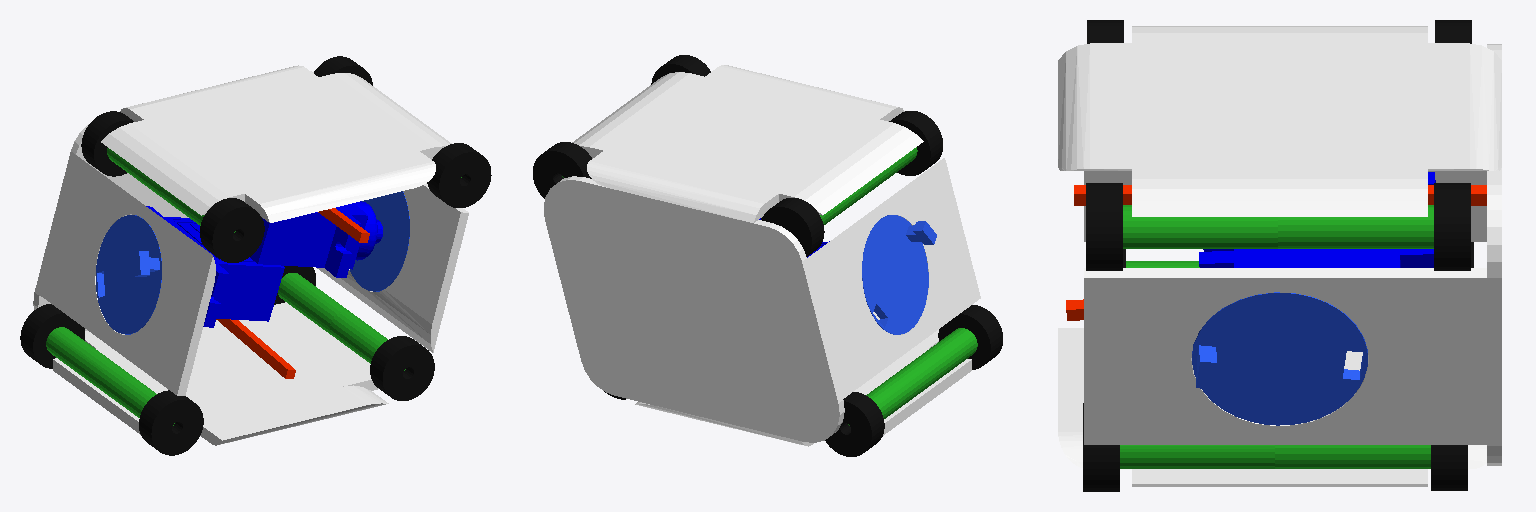
--- What the picture shows (computed from the rendered views, not written in the file) ---
The picture shows the robot from 3 angles, left to right: view 1: azimuth 30°, elevation 25°; view 2: azimuth 150°, elevation 25°; view 3: azimuth 270°, elevation 25°; orthographic projection.
Model iota with 28 links and 27 joints (11 continuous, 16 fixed), rooted at base_link, posed every joint at zero.
Visible links, largest first — view 1: base_link, top_panel, back_panel, front_panel, back_dock, front_servo, back_servo, front_dock, db_l_wheel, uf_l_wheel, ub_l_wheel, df_l_wheel (+11 smaller); view 2: r_panel, base_link, back_panel, back_dock, top_panel, ub_r_wheel, ub_l_motor, df_r_wheel, ub_l_wheel, db_r_wheel, db_l_wheel, ub_r_motor (+2 smaller); view 3: base_link, front_panel, front_dock, top_panel, df_l_motor, df_r_motor, r_panel, front_servo, uf_r_motor, uf_l_motor, df_l_wheel, df_r_wheel (+6 smaller).
Boxes of the visible links, x1,y1,x2,y2 form: base_link: [101, 65, 451, 222]; top_panel: [53, 302, 388, 445]; back_panel: [40, 155, 215, 395]; front_panel: [317, 183, 468, 352]; back_dock: [96, 215, 161, 334]; front_servo: [250, 201, 382, 277]; back_servo: [146, 206, 284, 327]; front_dock: [350, 191, 409, 291]; db_l_wheel: [200, 198, 264, 262]; uf_l_wheel: [370, 336, 434, 400]; ub_l_wheel: [139, 390, 203, 455]; df_l_wheel: [427, 143, 491, 207]; r_panel: [544, 176, 844, 442]; base_link: [572, 65, 923, 222]; back_panel: [807, 158, 980, 398]; back_dock: [862, 215, 936, 334]; top_panel: [635, 312, 971, 446]; ub_r_wheel: [825, 392, 884, 456]; ub_l_motor: [904, 328, 977, 391]; df_r_wheel: [533, 142, 591, 198]; ub_l_wheel: [938, 305, 1002, 369]; db_r_wheel: [761, 198, 824, 256]; db_l_wheel: [889, 111, 942, 175]; ub_r_motor: [848, 367, 924, 425]; base_link: [1058, 26, 1501, 216]; front_panel: [1084, 268, 1486, 444]; front_dock: [1192, 292, 1367, 425]; top_panel: [1058, 328, 1486, 486]; df_l_motor: [1123, 205, 1277, 248]; df_r_motor: [1278, 205, 1433, 248]; r_panel: [1487, 44, 1501, 465]; front_servo: [1199, 249, 1433, 267]; uf_r_motor: [1275, 445, 1430, 468]; uf_l_motor: [1120, 445, 1274, 468]; df_l_wheel: [1086, 183, 1122, 270]; df_r_wheel: [1434, 183, 1470, 270].
Bounding box of the posed robot: 0.0777 × 0.06 × 0.051 m (x, y, z).
Meshes: 28 distinct files referenced, 27 mesh visuals loaded (27 binary STL); not drawn: 1 (reference not matched to a file when rendering).

URDF robot description (iota):
<?xml version="1.0" encoding="utf-8"?>
<!-- This URDF was automatically created by SolidWorks to URDF Exporter! Originally created by Stephen Brawner ([email redacted]) 
     Commit Version: 1.6.0-1-g15f4949  Build Version: 1.6.7594.29634
     For more information, please see http://wiki.ros.org/sw_urdf_exporter -->
<robot
  name="iota">
  <material name="White">
	<color
          rgba="1.0 1.0 1.0 0.32" />
  </material>
  <material name="Green">
	<color
          rgba="0.18 0.72 0.18 1.0" />
  </material>
  <material name="Black">
	<color
          rgba="0.1 0.1 0.1 1.0" />
  </material>
  <material name="Red">
	<color rgba="1.0 0.2 0.0 0.7" />
  </material>
  <material name="LBlue">
	<color rgba="0.2 0.4 1.0 1.0" />
  </material>
  <material name="DBlue">
  <color rgba="0.0 0.0 1.0 1.0" />
  </material>
  <link
    name="base_link">
    <inertial>
      <origin
        xyz="0.026406 -0.048678 0.080107"
        rpy="0 0 0" />
      <mass
        value="0.0077405" />
      <inertia
        ixx="1.8647E-06"
        ixy="-1.4495E-12"
        ixz="-9.4749E-10"
        iyy="1.7838E-06"
        iyz="3.7523E-12"
        izz="3.6406E-06" />
    </inertial>
    <visual>
      <origin
        xyz="0 0 0"
        rpy="0 0 0" />
      <geometry>
        <mesh
          filename="meshes/base_link.STL" />
      </geometry>
      <material name="White"/>
    </visual>
    <collision>
      <origin
        xyz="0 0 0"
        rpy="0 0 0" />
      <geometry>
        <mesh
          filename="meshes/base_link.STL" />
      </geometry>
    </collision>
  </link>
  <link
    name="db_r_motor">
    <inertial>
      <origin
        xyz="-1.7347E-18 0 0.010687"
        rpy="0 0 0" />
      <mass
        value="0.00064583" />
      <inertia
        ixx="2.6152E-08"
        ixy="0"
        ixz="2.2331E-24"
        iyy="2.6152E-08"
        iyz="3.7564E-25"
        izz="2.8672E-09" />
    </inertial>
    <visual>
      <origin
        xyz="0 0 0"
        rpy="0 0 0" />
      <geometry>
        <mesh
          filename="meshes/db_r_motor.STL" />
      </geometry>
      <material
        name="Green"/>
    </visual>
    <collision>
      <origin
        xyz="0 0 0"
        rpy="0 0 0" />
      <geometry>
        <mesh
          filename="meshes/db_r_motor.STL" />
      </geometry>
    </collision>
  </link>
  <joint
    name="db_r_motor"
    type="fixed">
    <origin
      xyz="0.00169289678711508 -0.0487304240846036 0.0758985670725845"
      rpy="-1.5707963267949 -0.106028806705873 0" />
    <parent
      link="base_link" />
    <child
      link="db_r_motor" />
    <axis
      xyz="0 0 0" />
  </joint>
  <link
    name="db_r_wheel">
    <inertial>
      <origin
        xyz="2.1684E-18 1.3878E-17 -0.0025"
        rpy="0 0 0" />
      <mass
        value="0.00057667" />
      <inertia
        ixx="6.635E-09"
        ixy="-1.8333E-43"
        ixz="-1.5673E-25"
        iyy="6.635E-09"
        iyz="-1.8363E-41"
        izz="1.0867E-08" />
    </inertial>
    <visual>
      <origin
        xyz="0 0 0"
        rpy="0 0 0" />
      <geometry>
        <mesh
          filename="meshes/db_r_wheel.STL" />
      </geometry>
      <material name="Black"/>
    </visual>
    <collision>
      <origin
        xyz="0 0 0"
        rpy="0 0 0" />
      <geometry>
        <mesh
          filename="meshes/db_r_wheel.STL" />
      </geometry>
    </collision>
  </link>
  <joint
    name="db_r_wheel"
    type="continuous">
    <origin
      xyz="0 0 0.021"
      rpy="3.14159265358979 0 0.106028806705873" />
    <parent
      link="db_r_motor" />
    <child
      link="db_r_wheel" />
    <axis
      xyz="0 0 1" />
    <limit
      lower="0"
      upper="0"
      effort="0"
      velocity="0" />
  </joint>
  <link
    name="db_l_motor">
    <inertial>
      <origin
        xyz="-2.1684E-19 1.3878E-17 0.010687"
        rpy="0 0 0" />
      <mass
        value="0.00064583" />
      <inertia
        ixx="2.6152E-08"
        ixy="-1.085E-45"
        ixz="2.5572E-26"
        iyy="2.6152E-08"
        iyz="-4.3537E-41"
        izz="2.8672E-09" />
    </inertial>
    <visual>
      <origin
        xyz="0 0 0"
        rpy="0 0 0" />
      <geometry>
        <mesh
          filename="meshes/db_l_motor.STL" />
      </geometry>
      <material name="Green" />
    </visual>
    <collision>
      <origin
        xyz="0 0 0"
        rpy="0 0 0" />
      <geometry>
        <mesh
          filename="meshes/db_l_motor.STL" />
      </geometry>
    </collision>
  </link>
  <joint
    name="db_l_motor"
    type="fixed">
    <origin
      xyz="0.00169289678711508 -0.0487304240846036 0.0758985670725845"
      rpy="1.5707963267949 0 0" />
    <parent
      link="base_link" />
    <child
      link="db_l_motor" />
    <axis
      xyz="0 0 0" />
  </joint>
  <link
    name="db_l_wheel">
    <inertial>
      <origin
        xyz="2.1684E-18 0 0.0025"
        rpy="0 0 0" />
      <mass
        value="0.00057667" />
      <inertia
        ixx="6.635E-09"
        ixy="-1.8333E-43"
        ixz="-1.5735E-41"
        iyy="6.635E-09"
        iyz="-1.8363E-41"
        izz="1.0867E-08" />
    </inertial>
    <visual>
      <origin
        xyz="0 0 0"
        rpy="0 0 0" />
      <geometry>
        <mesh
          filename="meshes/db_l_wheel.STL" />
      </geometry>
      <material name="Black" />
    </visual>
    <collision>
      <origin
        xyz="0 0 0"
        rpy="0 0 0" />
      <geometry>
        <mesh
          filename="meshes/db_l_wheel.STL" />
      </geometry>
    </collision>
  </link>
  <joint
    name="db_l_wheel"
    type="continuous">
    <origin
      xyz="0 0 0.021"
      rpy="0 0 0" />
    <parent
      link="db_l_motor" />
    <child
      link="db_l_wheel" />
    <axis
      xyz="0 0 1" />
    <limit
      lower="0"
      upper="0"
      effort="0"
      velocity="0" />
  </joint>
  <link
    name="df_l_motor">
    <inertial>
      <origin
        xyz="0 0 0.010687"
        rpy="0 0 0" />
      <mass
        value="0.00064583" />
      <inertia
        ixx="2.6152E-08"
        ixy="0"
        ixz="-2.3102E-25"
        iyy="2.6152E-08"
        iyz="1.0209E-25"
        izz="2.8672E-09" />
    </inertial>
    <visual>
      <origin
        xyz="0 0 0"
        rpy="0 0 0" />
      <geometry>
        <mesh
          filename="meshes/df_l_motor.STL" />
      </geometry>
      <material name="Green" />
    </visual>
    <collision>
      <origin
        xyz="0 0 0"
        rpy="0 0 0" />
      <geometry>
        <mesh
          filename="meshes/df_l_motor.STL" />
      </geometry>
    </collision>
  </link>
  <joint
    name="df_l_motor"
    type="fixed">
    <origin
      xyz="0.0535884018392908 -0.0488891935290498 0.0758985670725845"
      rpy="1.5707963267949 0.772628626281801 0" />
    <parent
      link="base_link" />
    <child
      link="df_l_motor" />
    <axis
      xyz="0 0 0" />
  </joint>
  <link
    name="df_l_wheel">
    <inertial>
      <origin
        xyz="0 -1.3878E-17 0.0025"
        rpy="0 0 0" />
      <mass
        value="0.00057667" />
      <inertia
        ixx="6.635E-09"
        ixy="-2.068E-25"
        ixz="1.1168E-25"
        iyy="6.635E-09"
        iyz="3.1767E-27"
        izz="1.0867E-08" />
    </inertial>
    <visual>
      <origin
        xyz="0 0 0"
        rpy="0 0 0" />
      <geometry>
        <mesh
          filename="meshes/df_l_wheel.STL" />
      </geometry>
      <material name="Black" />
    </visual>
    <collision>
      <origin
        xyz="0 0 0"
        rpy="0 0 0" />
      <geometry>
        <mesh
          filename="meshes/df_l_wheel.STL" />
      </geometry>
    </collision>
  </link>
  <joint
    name="df_l_wheel"
    type="continuous">
    <origin
      xyz="0 0 0.021"
      rpy="0 0 0.88390039009553" />
    <parent
      link="df_l_motor" />
    <child
      link="df_l_wheel" />
    <axis
      xyz="0 0 1" />
    <limit
      lower="0"
      upper="0"
      effort="0"
      velocity="0" />
  </joint>
  <link
    name="df_r_motor">
    <inertial>
      <origin
        xyz="1.3878E-17 1.3878E-17 0.010687"
        rpy="0 0 0" />
      <mass
        value="0.00064583" />
      <inertia
        ixx="2.6152E-08"
        ixy="0"
        ixz="1.1887E-23"
        iyy="2.6152E-08"
        iyz="-9.1395E-25"
        izz="2.8672E-09" />
    </inertial>
    <visual>
      <origin
        xyz="0 0 0"
        rpy="0 0 0" />
      <geometry>
        <mesh
          filename="meshes/df_r_motor.STL" />
      </geometry>
      <material name="Green"/>
    </visual>
    <collision>
      <origin
        xyz="0 0 0"
        rpy="0 0 0" />
      <geometry>
        <mesh
          filename="meshes/df_r_motor.STL" />
      </geometry>
    </collision>
  </link>
  <joint
    name="df_r_motor"
    type="fixed">
    <origin
      xyz="0.0535884018392908 -0.0488891935290498 0.0758985670725845"
      rpy="-1.5707963267949 -1.46819705601191 0" />
    <parent
      link="base_link" />
    <child
      link="df_r_motor" />
    <axis
      xyz="0 0 0" />
  </joint>
  <link
    name="df_r_wheel">
    <inertial>
      <origin
        xyz="-1.3878E-17 0 -0.0025"
        rpy="0 0 0" />
      <mass
        value="0.00057667" />
      <inertia
        ixx="6.635E-09"
        ixy="-1.8333E-43"
        ixz="1.5673E-25"
        iyy="6.635E-09"
        iyz="-1.8363E-41"
        izz="1.0867E-08" />
    </inertial>
    <visual>
      <origin
        xyz="0 0 0"
        rpy="0 0 0" />
      <geometry>
        <mesh
          filename="meshes/df_r_wheel.STL" />
      </geometry>
      <material name="Black" />
    </visual>
    <collision>
      <origin
        xyz="0 0 0"
        rpy="0 0 0" />
      <geometry>
        <mesh
          filename="meshes/df_r_wheel.STL" />
      </geometry>
    </collision>
  </link>
  <joint
    name="df_r_wheel"
    type="continuous">
    <origin
      xyz="0 0 0.021"
      rpy="3.14159265358979 0 1.46819705601191" />
    <parent
      link="df_r_motor" />
    <child
      link="df_r_wheel" />
    <axis
      xyz="0 0 1" />
    <limit
      lower="0"
      upper="0"
      effort="0"
      velocity="0" />
  </joint>
  <link
    name="l_panel">
    <inertial>
      <origin
        xyz="0.036454 0.0225 0.001"
        rpy="0 0 0" />
      <mass
        value="0.0056383" />
      <inertia
        ixx="9.1857E-07"
        ixy="-2.2022E-07"
        ixz="1.3801E-26"
        iyy="1.678E-06"
        iyz="1.6869E-24"
        izz="2.5928E-06" />
    </inertial>
    <visual>
      <origin
        xyz="0 0 0"
        rpy="0 0 0" />
      <geometry>
        <mesh
          filename="meshes/l_panel.STL" />
      </geometry>
      <material name="White" />
    </visual>
    <collision>
      <origin
        xyz="0 0 0"
        rpy="0 0 0" />
      <geometry>
        <mesh
          filename="meshes/l_panel.STL" />
      </geometry>
    </collision>
  </link>
  <joint
    name="l_panel"
    type="fixed">
    <origin
      xyz="-0.015594256799817 -0.0766777315109957 0.0338985670725845"
      rpy="1.5707963267949 0 0" />
    <parent
      link="base_link" />
    <child
      link="l_panel" />
    <axis
      xyz="0 0 0" />
  </joint>
  <link
    name="lower_bracket">
    <inertial>
      <origin
        xyz="-3.4694E-18 0 0.0279"
        rpy="0 0 0" />
      <mass
        value="0.00023882" />
      <inertia
        ixx="6.2047E-08"
        ixy="0"
        ixz="2.0075E-24"
        iyy="6.2047E-08"
        iyz="3.3066E-27"
        izz="1.5922E-10" />
    </inertial>
    <visual>
      <origin
        xyz="0 0 0"
        rpy="0 0 0" />
      <geometry>
        <mesh
          filename="meshes/lower_bracket.STL" />
      </geometry>
      <material
        name="Red"/>
    </visual>
    <collision>
      <origin
        xyz="0 0 0"
        rpy="0 0 0" />
      <geometry>
        <mesh
          filename="meshes/lower_bracket.STL" />
      </geometry>
    </collision>
  </link>
  <joint
    name="lower_bracket"
    type="fixed">
    <origin
      xyz="0.045176397046141 0.0355758226897028 -0.056"
      rpy="0 0 -0.279104698918359" />
    <parent
      link="l_panel" />
    <child
      link="lower_bracket" />
    <axis
      xyz="0 0 0" />
  </joint>
  <link
    name="front_servo">
    <inertial>
      <origin
        xyz="-0.00036972 -3.524E-05 -0.0013115"
        rpy="0 0 0" />
      <mass
        value="0.006771" />
      <inertia
        ixx="4.3115E-07"
        ixy="8.8222E-11"
        ixz="-3.109E-08"
        iyy="6.7194E-07"
        iyz="1.0633E-09"
        izz="3.9197E-07" />
    </inertial>
    <visual>
      <origin
        xyz="0 0 0"
        rpy="0 0 0" />
      <geometry>
        <mesh
          filename="meshes/front_servo.STL" />
      </geometry>
      <material
        name="DBlue" />
    </visual>
    <collision>
      <origin
        xyz="0 0 0"
        rpy="0 0 0" />
      <geometry>
        <mesh
          filename="meshes/front_servo.STL" />
      </geometry>
    </collision>
  </link>
  <joint
    name="front_servo"
    type="fixed">
    <origin
      xyz="0.0034656966666195 -0.00820924646147805 0.0226525215937532"
      rpy="-1.57079632679489 1.51354276544107 1.57056578752365" />
    <parent
      link="lower_bracket" />
    <child
      link="front_servo" />
    <axis
      xyz="0 0 0" />
  </joint>
  <link
    name="front_dock">
    <inertial>
      <origin
        xyz="-0.00069261 6.9389E-18 0.00065064"
        rpy="0 0 0" />
      <mass
        value="0.00096771" />
      <inertia
        ixx="3.4644E-08"
        ixy="2.4815E-24"
        ixz="1.4408E-09"
        iyy="3.5747E-08"
        iyz="3.1935E-24"
        izz="6.8523E-08" />
    </inertial>
    <visual>
      <origin
        xyz="0 0 0"
        rpy="0 0 0" />
      <geometry>
        <mesh
          filename="meshes/front_dock.STL" />
      </geometry>
      <material
        name="LBlue" />
    </visual>
    <collision>
      <origin
        xyz="0 0 0"
        rpy="0 0 0" />
      <geometry>
        <mesh
          filename="meshes/front_dock.STL" />
      </geometry>
    </collision>
  </link>
  <joint
    name="front_dock"
    type="continuous">
    <origin
      xyz="-0.00535000000000001 0 -0.0190593320349418"
      rpy="3.14159265358979 0 0.173000373416657" />
    <parent
      link="front_servo" />
    <child
      link="front_dock" />
    <axis
      xyz="0 0 1" />
    <limit
      lower="0"
      upper="0"
      effort="0"
      velocity="0" />
  </joint>
  <link
    name="front_panel">
    <inertial>
      <origin
        xyz="0.0010548 0.00067286 0.0005827"
        rpy="0 0 0" />
      <mass
        value="0.0023099" />
      <inertia
        ixx="1.8436E-07"
        ixy="4.9212E-10"
        ixz="6.42E-11"
        iyy="7.7688E-07"
        iyz="-1.2689E-08"
        izz="9.5797E-07" />
    </inertial>
    <visual>
      <origin
        xyz="0 0 0"
        rpy="0 0 0" />
      <geometry>
        <mesh
          filename="meshes/front_panel.STL" />
      </geometry>
      <material
        name="White" />
    </visual>
    <collision>
      <origin
        xyz="0 0 0"
        rpy="0 0 0" />
      <geometry>
        <mesh
          filename="meshes/front_panel.STL" />
      </geometry>
    </collision>
  </link>
  <joint
    name="front_panel"
    type="fixed">
    <origin
      xyz="0.0644825369743734 0.0211802219227158 -0.0280062445817686"
      rpy="-1.36380991527172 1.57079631189374 -1.56665611972111" />
    <parent
      link="l_panel" />
    <child
      link="front_panel" />
    <axis
      xyz="0 0 0" />
  </joint>
  <link
    name="top_panel">
    <inertial>
      <origin
        xyz="-0.001035 0.0012757 5.4587E-08"
        rpy="0 0 0" />
      <mass
        value="0.0079632" />
      <inertia
        ixx="1.8945E-06"
        ixy="-2.378E-09"
        ixz="-1.2426E-12"
        iyy="3.842E-06"
        iyz="-6.5822E-12"
        izz="1.9557E-06" />
    </inertial>
    <visual>
      <origin
        xyz="0 0 0"
        rpy="0 0 0" />
      <geometry>
        <mesh
          filename="meshes/top_panel.STL" />
      </geometry>
      <material
        name="White" />
    </visual>
    <collision>
      <origin
        xyz="0 0 0"
        rpy="0 0 0" />
      <geometry>
        <mesh
          filename="meshes/top_panel.STL" />
      </geometry>
    </collision>
  </link>
  <joint
    name="top_panel"
    type="fixed">
    <origin
      xyz="0.0312989282218165 -0.0025 -0.028"
      rpy="0 0 0" />
    <parent
      link="l_panel" />
    <child
      link="top_panel" />
    <axis
      xyz="0 0 0" />
  </joint>
  <link
    name="ub_l_motor">
    <inertial>
      <origin
        xyz="-1.7347E-18 0 0.010687"
        rpy="0 0 0" />
      <mass
        value="0.00064583" />
      <inertia
        ixx="2.6152E-08"
        ixy="0"
        ixz="5.6159E-25"
        iyy="2.6152E-08"
        iyz="-1.1146E-26"
        izz="2.8672E-09" />
    </inertial>
    <visual>
      <origin
        xyz="0 0 0"
        rpy="0 0 0" />
      <geometry>
        <mesh
          filename="meshes/ub_l_motor.STL" />
      </geometry>
      <material
        name="Green" />
    </visual>
    <collision>
      <origin
        xyz="0 0 0"
        rpy="0 0 0" />
      <geometry>
        <mesh
          filename="meshes/ub_l_motor.STL" />
      </geometry>
    </collision>
  </link>
  <joint
    name="ub_l_motor"
    type="fixed">
    <origin
      xyz="-0.0278596823124971 0.00550000000000001 -0.000160189778555461"
      rpy="0 0 0.0567673670058895" />
    <parent
      link="top_panel" />
    <child
      link="ub_l_motor" />
    <axis
      xyz="0 0 0" />
  </joint>
  <link
    name="ub_l_wheel">
    <inertial>
      <origin
        xyz="1.7347E-18 -6.9389E-18 0.0025"
        rpy="0 0 0" />
      <mass
        value="0.00057667" />
      <inertia
        ixx="6.635E-09"
        ixy="-1.8333E-43"
        ixz="-1.5136E-41"
        iyy="6.635E-09"
        iyz="-1.8363E-41"
        izz="1.0867E-08" />
    </inertial>
    <visual>
      <origin
        xyz="0 0 0"
        rpy="0 0 0" />
      <geometry>
        <mesh
          filename="meshes/ub_l_wheel.STL" />
      </geometry>
      <material
        name="Black"/>
    </visual>
    <collision>
      <origin
        xyz="0 0 0"
        rpy="0 0 0" />
      <geometry>
        <mesh
          filename="meshes/ub_l_wheel.STL" />
      </geometry>
    </collision>
  </link>
  <joint
    name="ub_l_wheel"
    type="continuous">
    <origin
      xyz="0 0 0.021"
      rpy="0 0 -0.0567673670058895" />
    <parent
      link="ub_l_motor" />
    <child
      link="ub_l_wheel" />
    <axis
      xyz="0 0 1" />
    <limit
      lower="0"
      upper="0"
      effort="0"
      velocity="0" />
  </joint>
  <link
    name="ub_r_motor">
    <inertial>
      <origin
        xyz="6.9389E-18 -1.7347E-18 0.010687"
        rpy="0 0 0" />
      <mass
        value="0.00064583" />
      <inertia
        ixx="2.6152E-08"
        ixy="5.3989E-39"
        ixz="-3.4061E-23"
        iyy="2.6152E-08"
        iyz="-3.0744E-23"
        izz="2.8672E-09" />
    </inertial>
    <visual>
      <origin
        xyz="0 0 0"
        rpy="0 0 0" />
      <geometry>
        <mesh
          filename="meshes/ub_r_motor.STL" />
      </geometry>
      <material
        name="Green" />
    </visual>
    <collision>
      <origin
        xyz="0 0 0"
        rpy="0 0 0" />
      <geometry>
        <mesh
          filename="meshes/ub_r_motor.STL" />
      </geometry>
    </collision>
  </link>
  <joint
    name="ub_r_motor"
    type="continuous">
    <origin
      xyz="-0.0278596823124971 0.00550000000000001 -0.000160189778555461"
      rpy="-3.14159265358979 0 2.25067256820044" />
    <parent
      link="top_panel" />
    <child
      link="ub_r_motor" />
    <axis
      xyz="0 0 1" />
  </joint>
  <link
    name="ub_r_wheel">
    <inertial>
      <origin
        xyz="1.7347E-18 0 -0.0025"
        rpy="0 0 0" />
      <mass
        value="0.00057667" />
      <inertia
        ixx="6.635E-09"
        ixy="-1.551E-25"
        ixz="4.1736E-26"
        iyy="6.635E-09"
        iyz="5.7039E-26"
        izz="1.0867E-08" />
    </inertial>
    <visual>
      <origin
        xyz="0 0 0"
        rpy="0 0 0" />
      <geometry>
        <mesh
          filename="meshes/ub_r_wheel.STL" />
      </geometry>
      <material
        name="Black"/>
    </visual>
    <collision>
      <origin
        xyz="0 0 0"
        rpy="0 0 0" />
      <geometry>
        <mesh
          filename="meshes/ub_r_wheel.STL" />
      </geometry>
    </collision>
  </link>
  <joint
    name="ub_r_wheel"
    type="continuous">
    <origin
      xyz="0 0 0.021"
      rpy="-3.14159265358979 0 2.33553651872795" />
    <parent
      link="ub_r_motor" />
    <child
      link="ub_r_wheel" />
    <axis
      xyz="0 0 1" />
    <limit
      lower="0"
      upper="0"
      effort="0"
      velocity="0" />
  </joint>
  <link
    name="uf_l_motor">
    <inertial>
      <origin
        xyz="0 0 0.010687"
        rpy="0 0 0" />
      <mass
        value="0.00064583" />
      <inertia
        ixx="2.6152E-08"
        ixy="0"
        ixz="-6.1854E-25"
        iyy="2.6152E-08"
        iyz="-8.9939E-26"
        izz="2.8672E-09" />
    </inertial>
    <visual>
      <origin
        xyz="0 0 0"
        rpy="0 0 0" />
      <geometry>
        <mesh
          filename="meshes/uf_l_motor.STL" />
      </geometry>
      <material
        name="Green" />
    </visual>
    <collision>
      <origin
        xyz="0 0 0"
        rpy="0 0 0" />
      <geometry>
        <mesh
          filename="meshes/uf_l_motor.STL" />
      </geometry>
    </collision>
  </link>
  <joint
    name="uf_l_motor"
    type="fixed">
    <origin
      xyz="0.024664170926022 0.00549999999999999 0.000627140047234562"
      rpy="0 0 0.344784457208072" />
    <parent
      link="top_panel" />
    <child
      link="uf_l_motor" />
    <axis
      xyz="0 0 0" />
  </joint>
  <link
    name="uf_l_wheel">
    <inertial>
      <origin
        xyz="-1.3878E-17 0 0.0025"
        rpy="0 0 0" />
      <mass
        value="0.00057667" />
      <inertia
        ixx="6.635E-09"
        ixy="1.034E-25"
        ixz="-1.4648E-25"
        iyy="6.635E-09"
        iyz="-1.9241E-26"
        izz="1.0867E-08" />
    </inertial>
    <visual>
      <origin
        xyz="0 0 0"
        rpy="0 0 0" />
      <geometry>
        <mesh
          filename="meshes/uf_l_wheel.STL" />
      </geometry>
      <material
        name="Black" />
    </visual>
    <collision>
      <origin
        xyz="0 0 0"
        rpy="0 0 0" />
      <geometry>
        <mesh
          filename="meshes/uf_l_wheel.STL" />
      </geometry>
    </collision>
  </link>
  <joint
    name="uf_l_wheel"
    type="continuous">
    <origin
      xyz="0 0 0.021"
      rpy="0 0 -0.420760994096352" />
    <parent
      link="uf_l_motor" />
    <child
      link="uf_l_wheel" />
    <axis
      xyz="0 0 1" />
    <limit
      lower="0"
      upper="0"
      effort="0"
      velocity="0" />
  </joint>
  <link
    name="uf_r_motor">
    <inertial>
      <origin
        xyz="-6.9389E-18 -3.4694E-18 0.010687"
        rpy="0 0 0" />
      <mass
        value="0.00064583" />
      <inertia
        ixx="2.6152E-08"
        ixy="0"
        ixz="-5.8383E-25"
        iyy="2.6152E-08"
        iyz="2.0104E-25"
        izz="2.8672E-09" />
    </inertial>
    <visual>
      <origin
        xyz="0 0 0"
        rpy="0 0 0" />
      <geometry>
        <mesh
          filename="meshes/uf_r_motor.STL" />
      </geometry>
      <material
        name="Green"/>
    </visual>
    <collision>
      <origin
        xyz="0 0 0"
        rpy="0 0 0" />
      <geometry>
        <mesh
          filename="meshes/uf_r_motor.STL" />
      </geometry>
    </collision>
  </link>
  <joint
    name="uf_r_motor"
    type="fixed">
    <origin
      xyz="0.024664170926022 0.00549999999999999 0.000627140047234562"
      rpy="3.14159265358979 0 -2.48006975227401" />
    <parent
      link="top_panel" />
    <child
      link="uf_r_motor" />
    <axis
      xyz="0 0 0" />
  </joint>
  <link
    name="uf_r_wheel">
    <inertial>
      <origin
        xyz="-2.0817E-17 -1.3878E-17 -0.0025"
        rpy="0 0 0" />
      <mass
        value="0.00057667" />
      <inertia
        ixx="6.635E-09"
        ixy="-5.1699E-26"
        ixz="1.6535E-25"
        iyy="6.635E-09"
        iyz="-1.4345E-26"
        izz="1.0867E-08" />
    </inertial>
    <visual>
      <origin
        xyz="0 0 0"
        rpy="0 0 0" />
      <geometry>
        <mesh
          filename="meshes/uf_r_wheel.STL" />
      </geometry>
      <material
        name="Black"/>
    </visual>
    <collision>
      <origin
        xyz="0 0 0"
        rpy="0 0 0" />
      <geometry>
        <mesh
          filename="meshes/uf_r_wheel.STL" />
      </geometry>
    </collision>
  </link>
  <joint
    name="uf_r_Wheel"
    type="continuous">
    <origin
      xyz="0 0 0.021"
      rpy="3.14159265358979 0 -2.58049522466332" />
    <parent
      link="uf_r_motor" />
    <child
      link="uf_r_wheel" />
    <axis
      xyz="0 0 1" />
    <limit
      lower="0"
      upper="0"
      effort="0"
      velocity="0" />
  </joint>
  <link
    name="r_panel">
    <inertial>
      <origin
        xyz="0.036453781512605 0.0225 0.000999999999999997"
        rpy="0 0 0" />
      <mass
        value="0.00563834139292078" />
      <inertia
        ixx="9.18566945337333E-07"
        ixy="-2.20216452907176E-07"
        ixz="3.9955266293099E-24"
        iyy="1.67797643505038E-06"
        iyz="1.3004027878741E-24"
        izz="2.59278448612577E-06" />
    </inertial>
    <visual>
      <origin
        xyz="0 0 0"
        rpy="0 0 0" />
      <geometry>
        <mesh
          filename="meshes/r_panel.STL" />
      </geometry>
      <material
        name="White" />
    </visual>
    <collision>
      <origin
        xyz="0 0 0"
        rpy="0 0 0" />
      <geometry>
        <mesh
          filename="meshes/r_panel.STL" />
      </geometry>
    </collision>
  </link>
  <joint
    name="r_panel"
    type="fixed">
    <origin
      xyz="-0.0156361653843612 -0.0186777315109957 0.0338985670725845"
      rpy="1.5707963267949 0 0" />
    <parent
      link="base_link" />
    <child
      link="r_panel" />
    <axis
      xyz="0 0 0" />
  </joint>
  <link
    name="upper_bracket">
    <inertial>
      <origin
        xyz="1.8358E-07 -3.4618E-14 0.0279"
        rpy="0 0 0" />
      <mass
        value="0.00023882" />
      <inertia
        ixx="6.2047E-08"
        ixy="-1.5029E-24"
        ixz="-4.0721E-13"
        iyy="6.2047E-08"
        iyz="7.6774E-20"
        izz="1.5922E-10" />
    </inertial>
    <visual>
      <origin
        xyz="0 0 0"
        rpy="0 0 0" />
      <geometry>
        <mesh
          filename="meshes/upper_bracket.STL" />
      </geometry>
      <material
        name="Red"/>
    </visual>
    <collision>
      <origin
        xyz="0 0 0"
        rpy="0 0 0" />
      <geometry>
        <mesh
          filename="meshes/upper_bracket.STL" />
      </geometry>
    </collision>
  </link>
  <joint
    name="upper_bracket"
    type="fixed">
    <origin
      xyz="0.0285891386480857 0.0132472543654309 0.00312388554404198"
      rpy="0.0572535613550783 0 -0.279334860442379" />
    <parent
      link="r_panel" />
    <child
      link="upper_bracket" />
    <axis
      xyz="0 0 0" />
  </joint>
  <link
    name="back_servo">
    <inertial>
      <origin
        xyz="-0.00036972 -3.524E-05 -0.0013115"
        rpy="0 0 0" />
      <mass
        value="0.006771" />
      <inertia
        ixx="4.3115E-07"
        ixy="8.8222E-11"
        ixz="-3.109E-08"
        iyy="6.7194E-07"
        iyz="1.0634E-09"
        izz="3.9197E-07" />
    </inertial>
    <visual>
      <origin
        xyz="0 0 0"
        rpy="0 0 0" />
      <geometry>
        <mesh
          filename="meshes/back_servo.STL" />
      </geometry>
      <material
        name="DBlue"/>
    </visual>
    <collision>
      <origin
        xyz="0 0 0"
        rpy="0 0 0" />
      <geometry>
        <mesh
          filename="meshes/back_servo.STL" />
      </geometry>
    </collision>
  </link>
  <joint
    name="back_servo"
    type="fixed">
    <origin
      xyz="-0.00327850155878186 0.00710820887028432 0.0211565538865111"
      rpy="0 1.5707963267949 0" />
    <parent
      link="upper_bracket" />
    <child
      link="back_servo" />
    <axis
      xyz="0 0 0" />
  </joint>
  <link
    name="back_dock">
    <inertial>
      <origin
        xyz="-0.00069261 4.7878E-16 0.00065064"
        rpy="0 0 0" />
      <mass
        value="0.00096771" />
      <inertia
        ixx="3.4644E-08"
        ixy="8.2718E-24"
        ixz="1.4408E-09"
        iyy="3.5747E-08"
        iyz="7.3541E-24"
        izz="6.8523E-08" />
    </inertial>
    <visual>
      <origin
        xyz="0 0 0"
        rpy="0 0 0" />
      <geometry>
        <mesh
          filename="meshes/back_dock.STL" />
      </geometry>
      <material
        name="LBlue"/>
    </visual>
    <collision>
      <origin
        xyz="0 0 0"
        rpy="0 0 0" />
      <geometry>
        <mesh
          filename="meshes/back_dock.STL" />
      </geometry>
    </collision>
  </link>
  <joint
    name="back_dock"
    type="continuous">
    <origin
      xyz="-0.00534999999999996 0 -0.019059332034942"
      rpy="3.14159265358979 0 -0.626368079302037" />
    <parent
      link="back_servo" />
    <child
      link="back_dock" />
    <axis
      xyz="0 0 1" />
    <limit
      lower="0"
      upper="0"
      effort="0"
      velocity="0" />
  </joint>
  <link
    name="back_panel">
    <inertial>
      <origin
        xyz="0.0010532 -0.0018571 -0.0005283"
        rpy="0 0 0" />
      <mass
        value="0.0023135" />
      <inertia
        ixx="1.8292E-07"
        ixy="-1.2825E-09"
        ixz="-2.4054E-11"
        iyy="7.7604E-07"
        iyz="1.2485E-09"
        izz="9.5744E-07" />
    </inertial>
    <visual>
      <origin
        xyz="0 0 0"
        rpy="0 0 0" />
      <geometry>
        <mesh
          filename="meshes/back_panel.STL" />
      </geometry>
      <material
        name="White"/>
    </visual>
    <collision>
      <origin
        xyz="0 0 0"
        rpy="0 0 0" />
      <geometry>
        <mesh
          filename="meshes/back_panel.STL" />
      </geometry>
    </collision>
  </link>
  <joint
    name="back_panel"
    type="fixed">
    <origin
      xyz="0.00865558382549677 0.0247696852084958 0.0299937554182314"
      rpy="0.279335238189619 1.5707963267949 0" />
    <parent
      link="r_panel" />
    <child
      link="back_panel" />
    <axis
      xyz="0 0 0" />
  </joint>
</robot>
